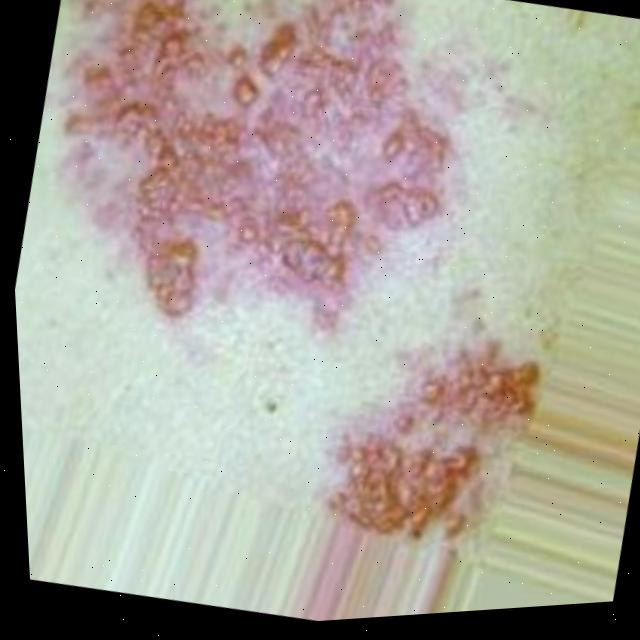Shingles: (6, 0, 484, 363), (323, 329, 539, 561)
